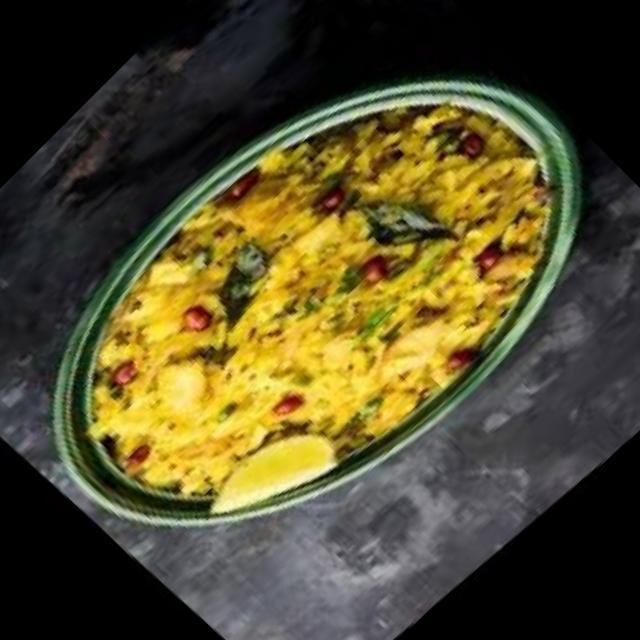poha: (19, 4, 624, 608)
